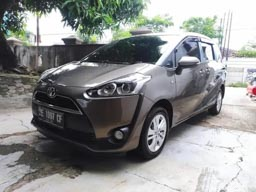plat: (37, 107, 64, 128)
